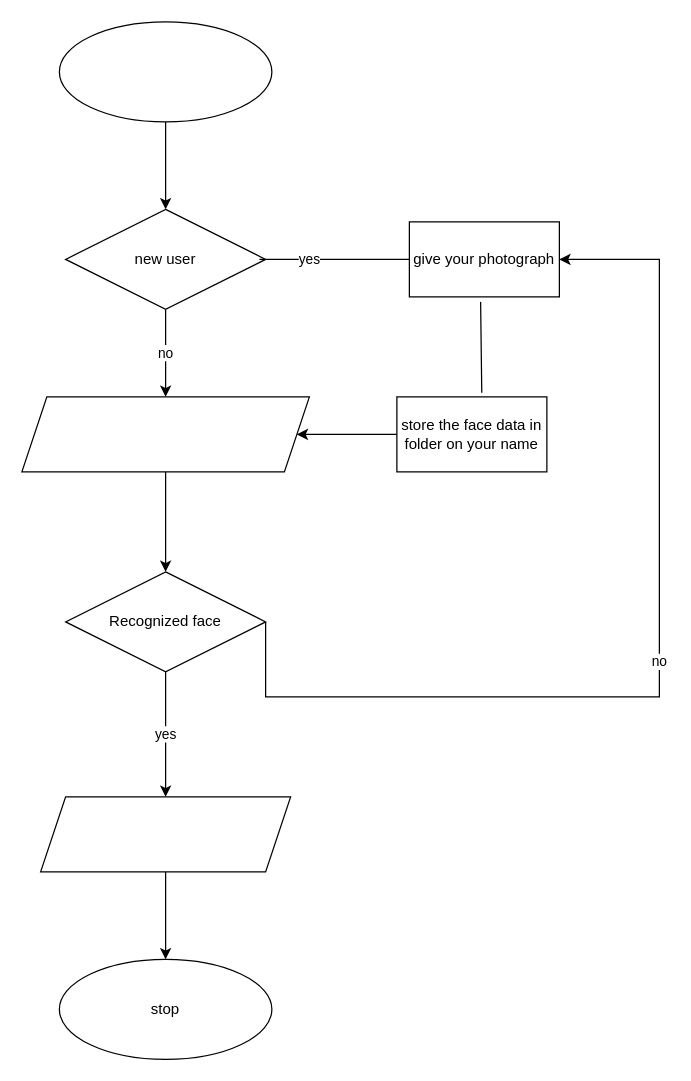
The diagram is 691 pixels wide and 1081 high, and some of its shapes have lost their labels. The centre of each missing label's shape, as x and y in pixels:
Recognize the face: the point at 165,434
start: the point at 165,71
store in csv file with registration name, date,time of entry: the point at 165,834
